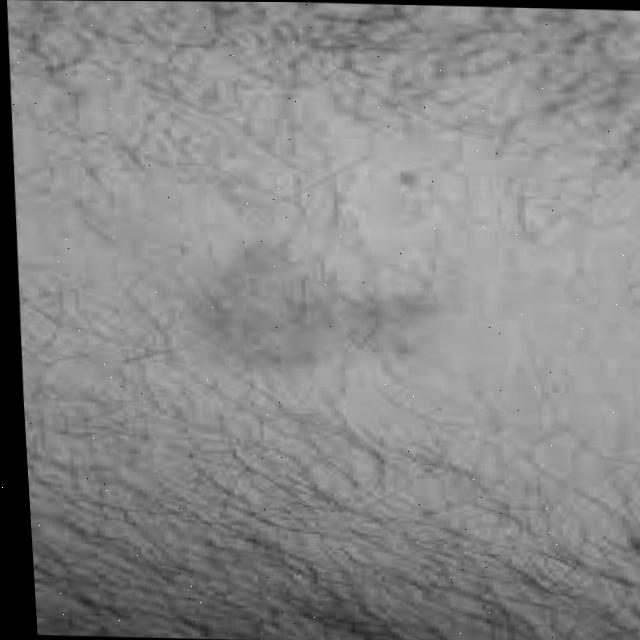Shingles: (211, 249, 441, 363)
